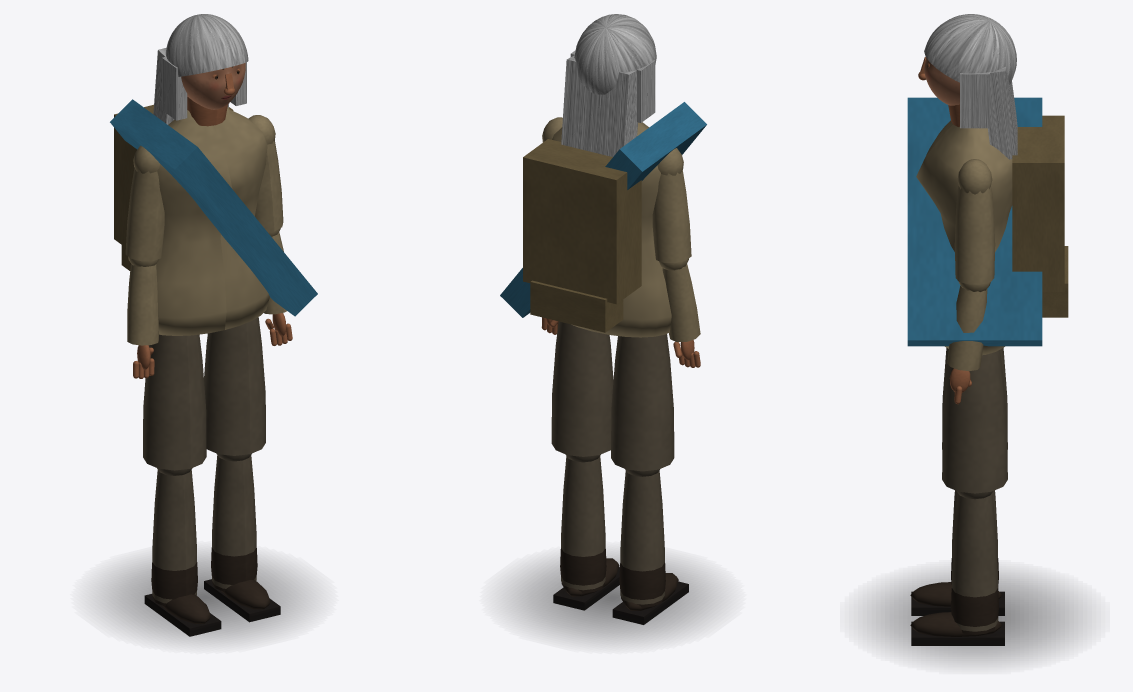
File: npc_lark.glb
3 renders of one model, left to right at view 1: azimuth 30°, elevation 25°; view 2: azimuth 150°, elevation 25°; view 3: azimuth 270°, elevation 25°, orthographic. The views are drawn at different scales.
Visible parts, largest first — view 1: chest, object 11, head, legL, legR, shinL, shinR, armL, foreL, armR, foreR; view 2: chest, head, object 11, legL, legR, shinL, shinR, armL, foreL; view 3: chest, object 11, head, shinR, legR, armR, foreR, shinL, legL.
Boxes of the visible parts, x1,y1,x2,y2 form: chest: (110,97,317,335); object 11: (98,552,310,642); head: (153,14,248,124); legL: (143,334,206,470); legR: (204,317,265,455); shinL: (144,468,221,636); shinR: (204,453,280,622); armL: (125,145,164,261); foreL: (127,256,158,378); armR: (248,115,283,232); foreR: (264,228,292,345); chest: (500,102,706,337); head: (561,14,656,156); object 11: (507,553,719,642); legL: (611,334,674,471); legR: (551,321,613,456); shinL: (612,469,688,624); shinR: (553,454,619,610); armL: (652,148,691,262); foreL: (659,258,700,367); chest: (907,97,1068,355); object 11: (867,572,1082,662); head: (918,14,1017,159); shinR: (910,491,1004,645); legR: (942,350,1007,493); armR: (954,159,995,284); foreR: (947,282,990,404); shinL: (910,490,1004,615); legL: (942,348,1007,449).
Size of the model in its own units: 0.77 by 1.79 by 0.77.
6 materials, 5 textured.
